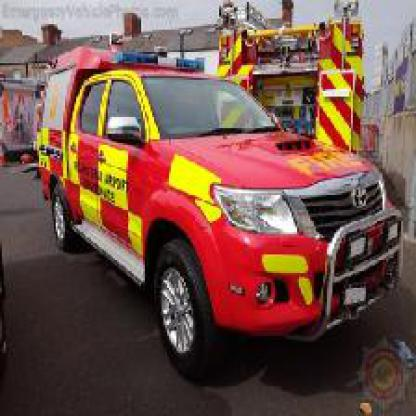emergency: (39, 35, 399, 381)
